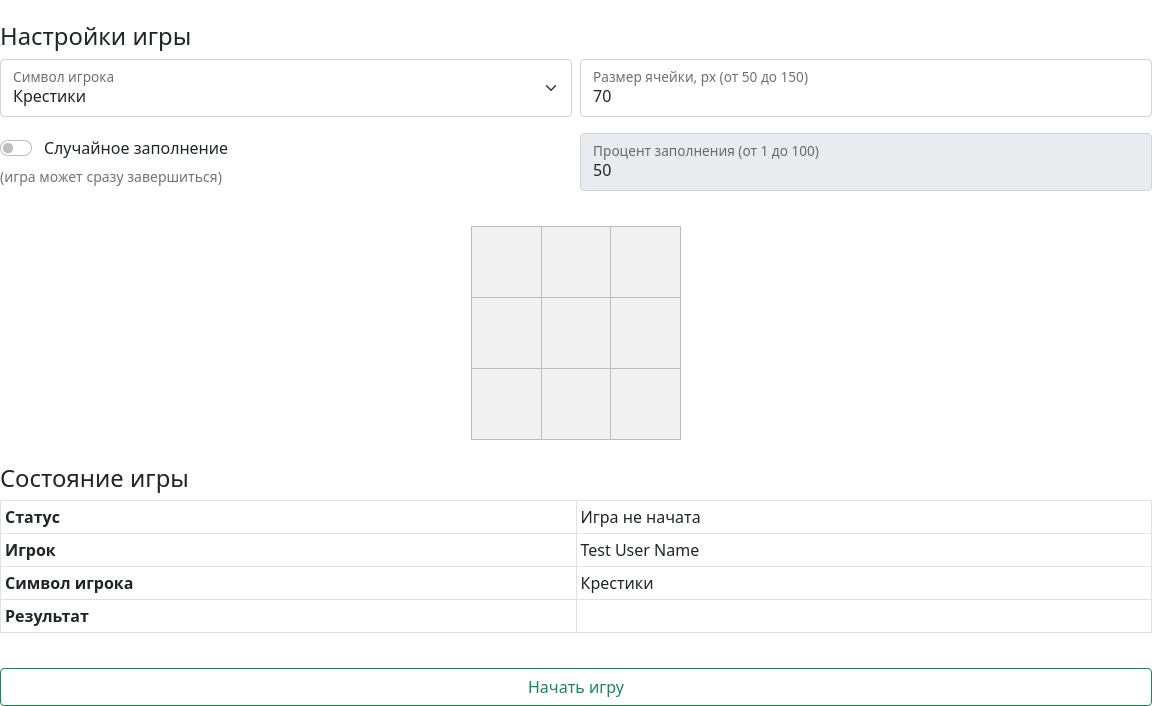
Test case: TicTacToeGame › correct behaviour on start button click
(page scrolled)
Click the button.
click(576, 687)  # box [0, 668, 1151, 705]
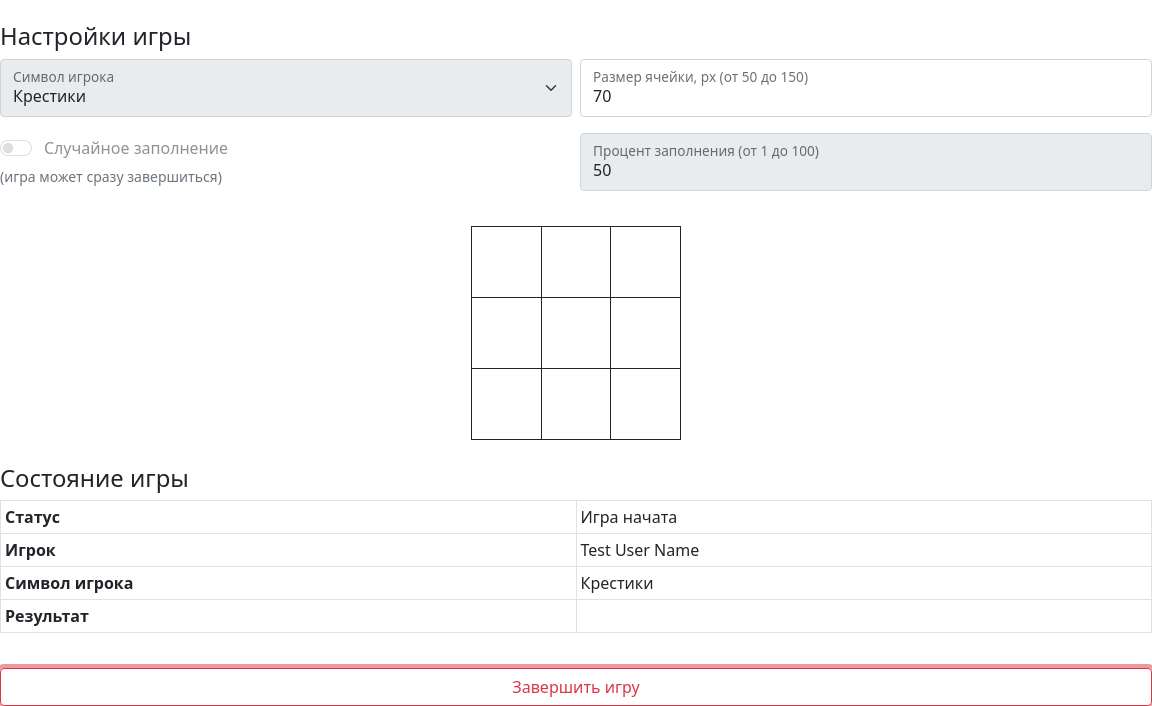
Expected: the checkbox is disabled, [0, 140, 32, 156]
Expected: the cell "Игра начата" is shown, [576, 501, 1151, 534]
Expected: the button reads "Завершить игру", [0, 668, 1151, 705]
